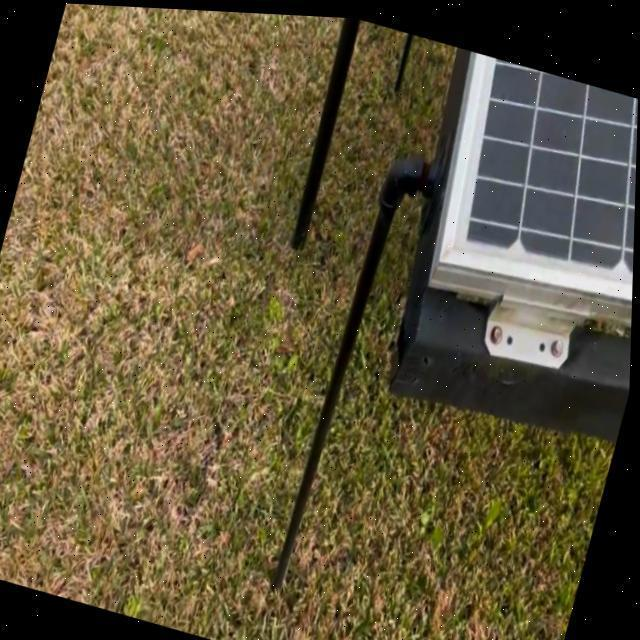Normal Solar Panel: (412, 44, 640, 336)
